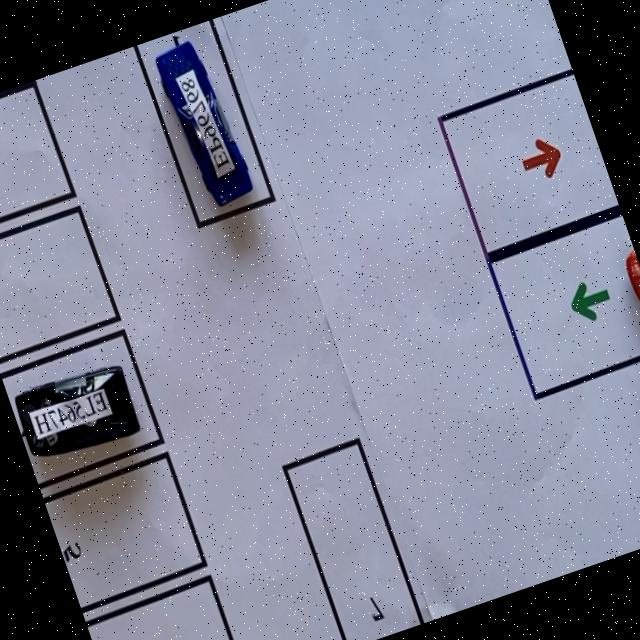car: (155, 36, 251, 206), (15, 366, 139, 455), (625, 249, 640, 302)
